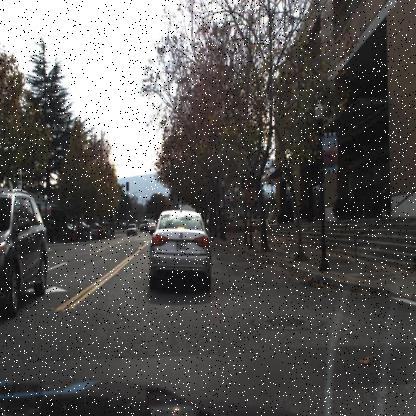car: (0, 188, 48, 318), (148, 208, 212, 292), (87, 225, 98, 241), (126, 221, 137, 237), (149, 221, 156, 232)
